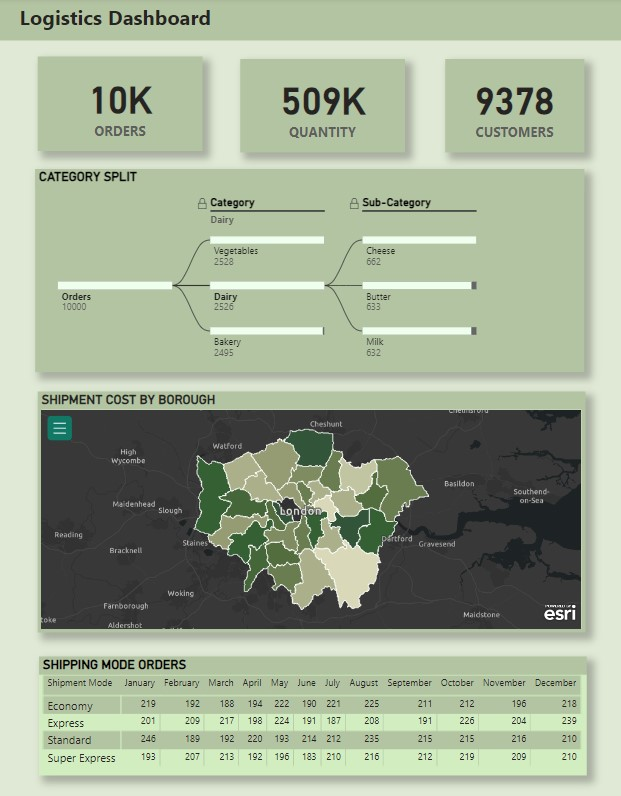

This screenshot's page, from the dashboard's own definition file:
{"tool":"powerbi","page":{"name":"Page 1","canvas":[816,1056],"ordinal":0},"visuals":[{"type":"esriVisual","title":"SHIPMENT COST BY BOROUGH","fields":{"Location":["fake_logistics_data.Destination"],"Color":["Sum(fake_logistics_data.Shipment Cost)"]},"box":[50,514,718,316],"z":0},{"type":"card","fields":{"Values":["CountNonNull(fake_logistics_data.Order ID)"]},"box":[50,76,216,124],"z":1000},{"type":"card","fields":{"Values":["Sum(fake_logistics_data.Quantity)"]},"box":[316,78,216,122],"z":2000},{"type":"card","fields":{"Values":["Count(fake_logistics_data.Customer Name)"]},"box":[586,78,182,122],"z":3000},{"type":"decompositionTreeVisual","title":"CATEGORY SPLIT","fields":{"Analyze":["CountNonNull(fake_logistics_data.Order ID)"],"ExplainBy":["fake_logistics_data.Category","fake_logistics_data.Product"]},"box":[48.3,223.3,720,266.7],"z":4000},{"type":"textbox","box":[0,0,816,54],"z":5000},{"type":"pivotTable","title":"SHIPPING MODE ORDERS","fields":{"Rows":["fake_logistics_data.Shipment Mode"],"Columns":["fake_logistics_data.Order Date.Variation.Date Hierarchy.Month"],"Values":["CountNonNull(fake_logistics_data.Order ID)"]},"box":[52,862,718,156],"z":6000}]}

Visuals, with their boxes in screenshot pixels (x1, y1, x2, y2), scaled from the page's 816x1056 canvas onto the 621x796 screenshot:
"SHIPMENT COST BY BOROUGH" esriVisual: (left=38, top=387, right=584, bottom=626)
card - CountNonNull(fake_logistics_data.Order ID): (left=38, top=57, right=202, bottom=151)
card - Sum(fake_logistics_data.Quantity): (left=240, top=59, right=405, bottom=151)
card - Count(fake_logistics_data.Customer Name): (left=446, top=59, right=584, bottom=151)
"CATEGORY SPLIT" decompositionTreeVisual: (left=37, top=168, right=585, bottom=369)
textbox: (left=0, top=0, right=620, bottom=41)
"SHIPPING MODE ORDERS" pivotTable: (left=40, top=650, right=586, bottom=767)
